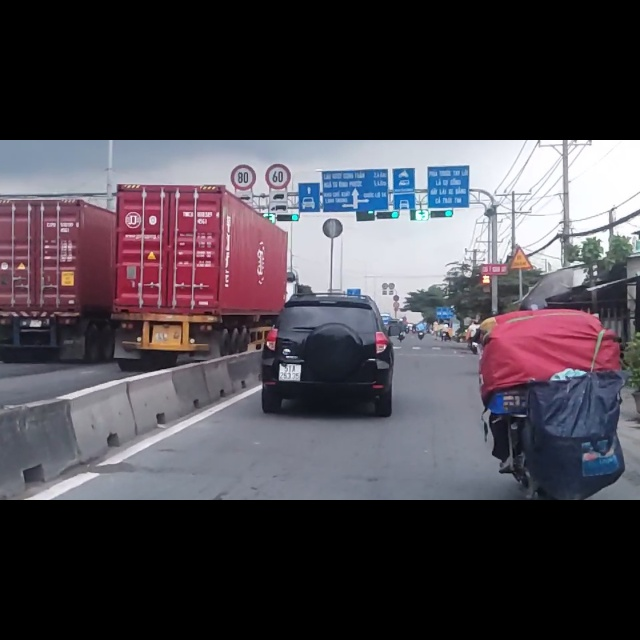bien_chi_dan: (230, 43, 257, 90), (265, 43, 291, 89), (508, 188, 533, 231)
